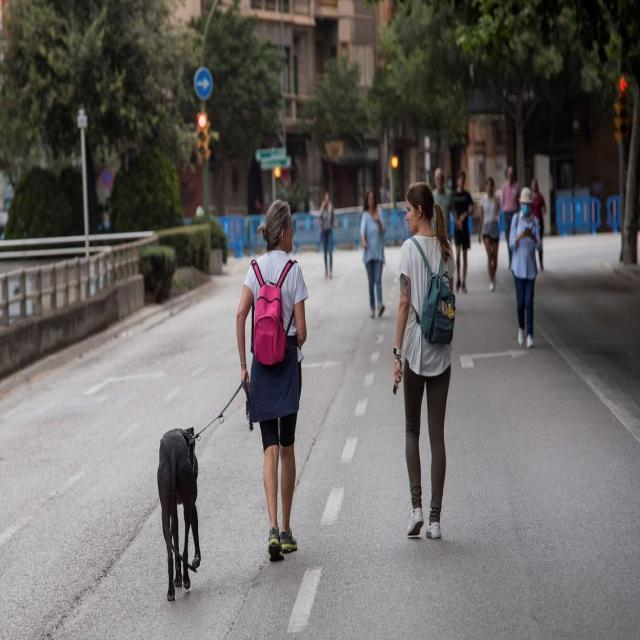person: (222, 188, 316, 570), (378, 176, 466, 548), (504, 177, 545, 364), (353, 184, 392, 336), (76, 118, 79, 119)
